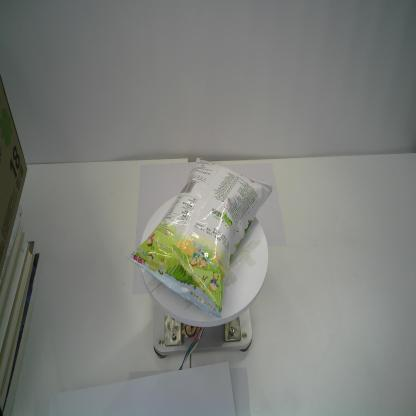Puffed Food: (124, 156, 274, 320)
